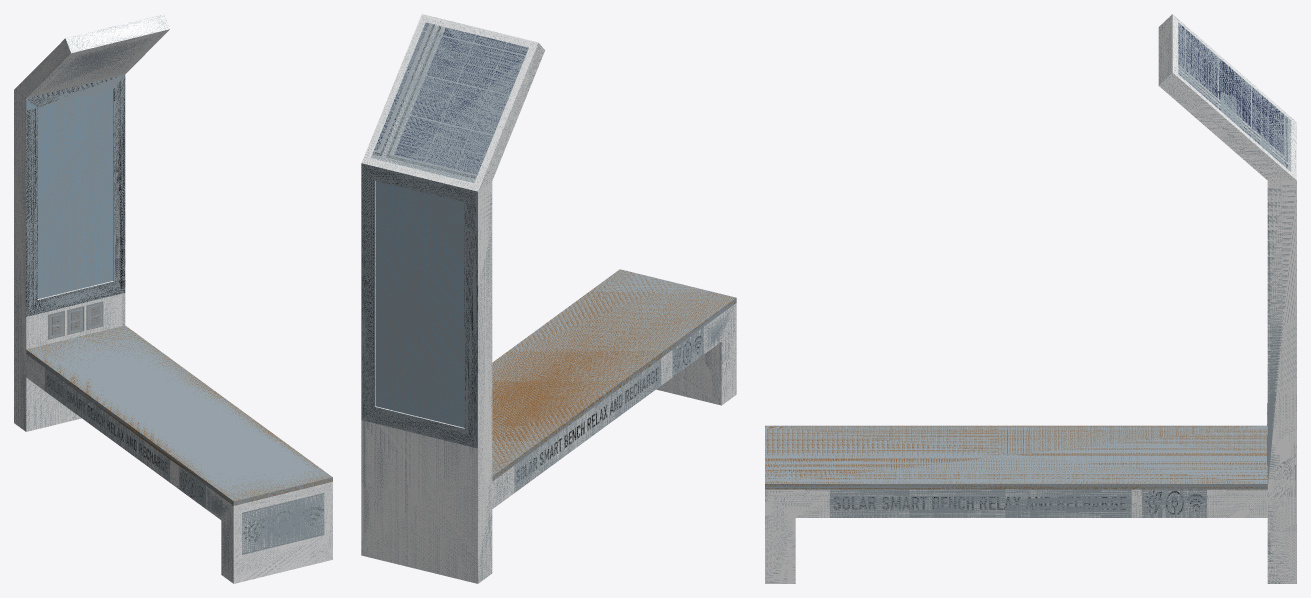
The model's file is Smart Bench1.fbx.
3 renders of one model, left to right at view 1: azimuth 30°, elevation 25°; view 2: azimuth 150°, elevation 25°; view 3: azimuth 270°, elevation 25°, orthographic. The views are drawn at different scales.
Visible parts, largest first — view 1: Group1, Group2, Group3, Group4; view 2: Group1; view 3: Group1.
Boxes of the visible parts, left/top/right/bottom form: Group1: left=14, top=14, right=332, bottom=583; Group2: left=67, top=306, right=84, bottom=334; Group3: left=86, top=301, right=103, bottom=330; Group4: left=48, top=310, right=64, bottom=339; Group1: left=361, top=14, right=736, bottom=583; Group1: left=765, top=14, right=1296, bottom=583.
Size of the model in its own units: 233 by 951 by 896.
